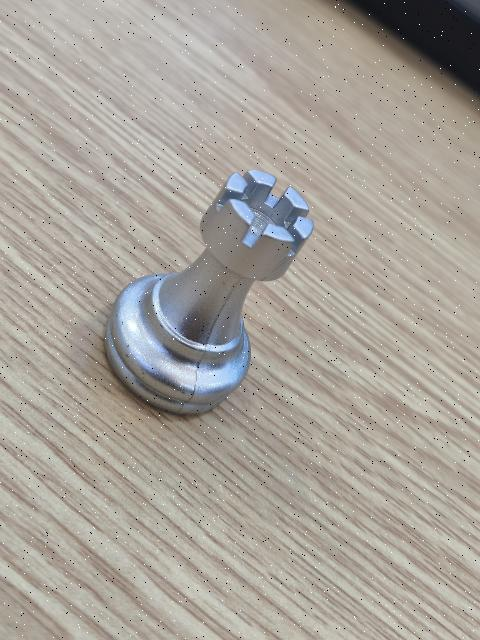white_rook: (106, 169, 314, 420)
